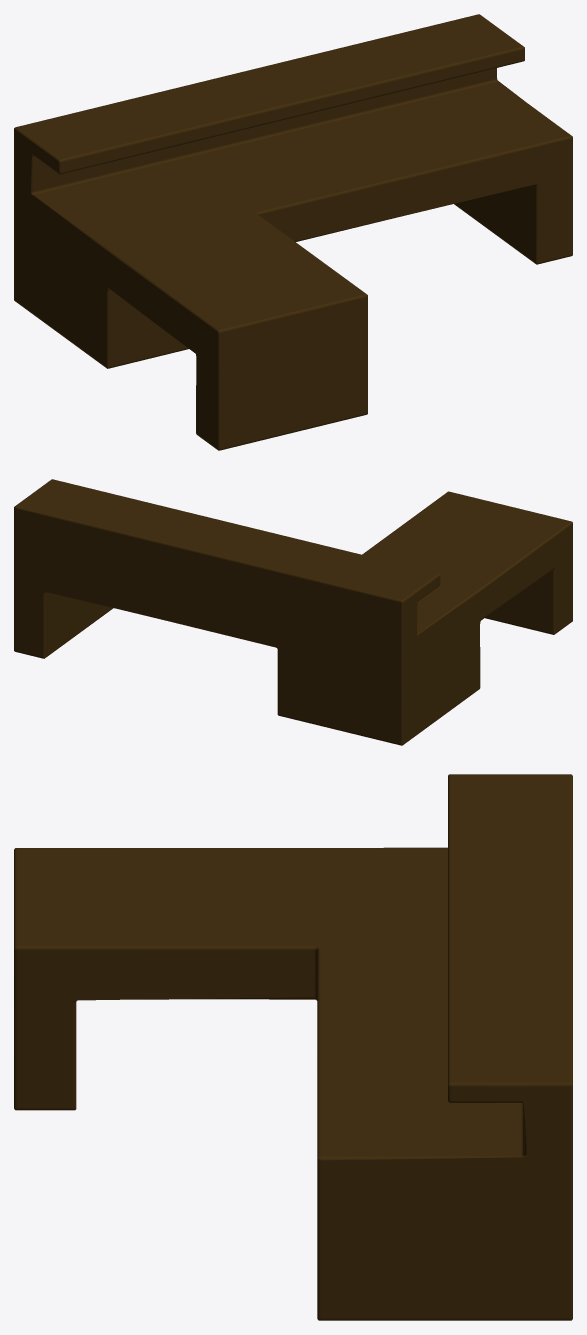
Rendered from DeskL.fbx.
3 views of the same model, one above another, from view 1: azimuth 30°, elevation 25°; view 2: azimuth 150°, elevation 25°; view 3: azimuth 270°, elevation 25° (orthographic). The views are drawn at different scales.
Parts seen in each view (by area): view 1: Cube; view 2: Cube; view 3: Cube.
Part boxes in pixels (x1,y1,x2,y2): Cube: (14, 14, 572, 450); Cube: (14, 479, 572, 745); Cube: (14, 774, 572, 1320).
Size of the model in its own units: 1017 by 363 by 774.
